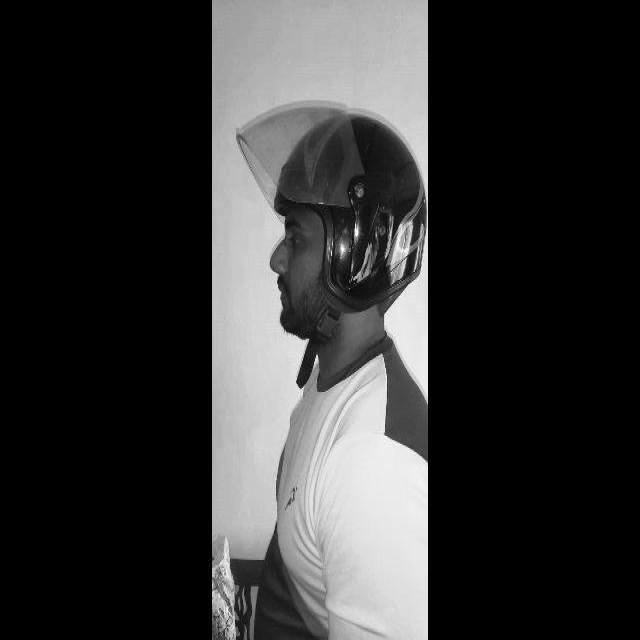5_casco: (235, 99, 428, 312)
